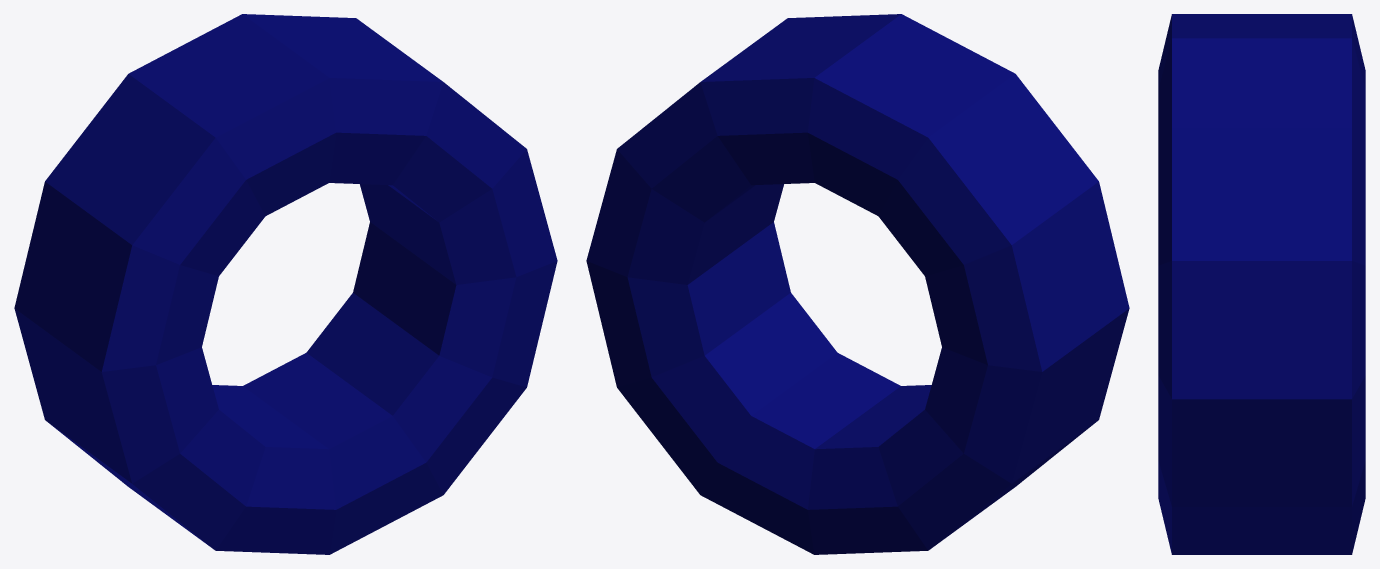
Rendered from Wheel04.fbx.
3 renders of one model, left to right at view 1: azimuth 30°, elevation 25°; view 2: azimuth 150°, elevation 25°; view 3: azimuth 270°, elevation 25°, orthographic. The views are drawn at different scales.
Parts seen in each view (by area): view 1: Wheel04; view 2: Wheel04; view 3: Wheel04.
Part boxes in pixels (x1,y1,x2,y2): Wheel04: [14, 14, 557, 554]; Wheel04: [586, 14, 1129, 554]; Wheel04: [1158, 14, 1365, 554].
Bounding box in the file's own units: 641 × 641 × 245.
